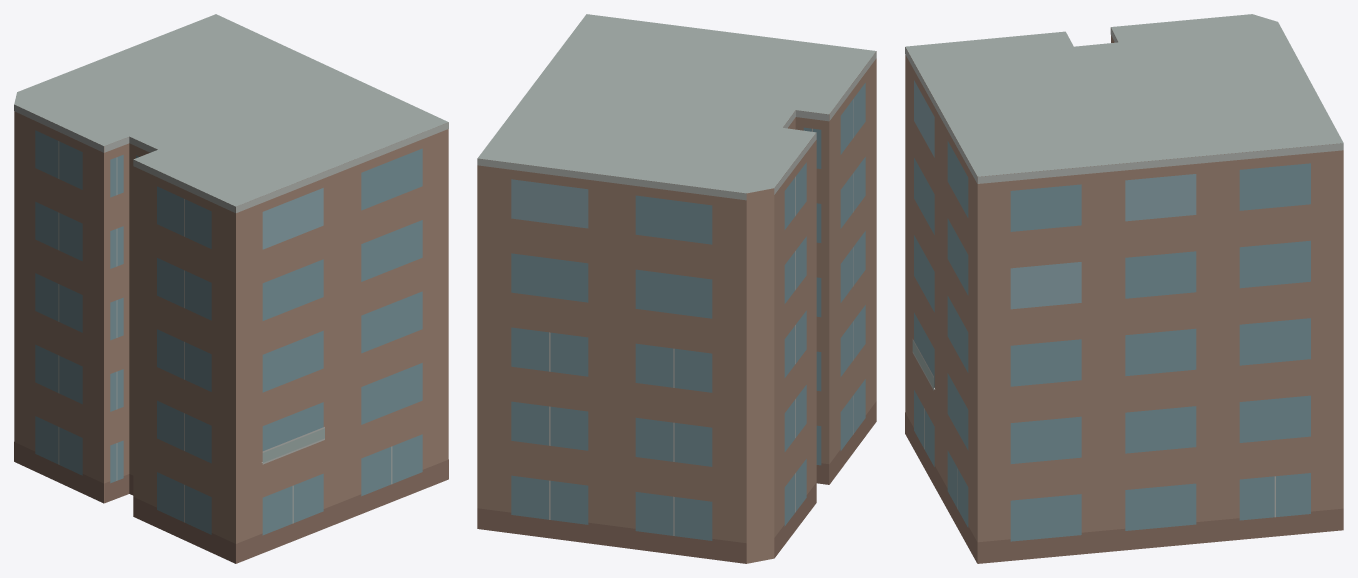
Rendered from survey-upis-32798811.glb.
3 views of the same model, side by side, from view 1: azimuth 30°, elevation 25°; view 2: azimuth 150°, elevation 25°; view 3: azimuth 270°, elevation 25° (orthographic). The views are drawn at different scales.
Visible parts, largest first — view 1: survey-upis-32798811.tmp; view 2: survey-upis-32798811.tmp; view 3: survey-upis-32798811.tmp.
Part boxes in pixels (x1,y1,x2,y2): survey-upis-32798811.tmp: (14, 14, 448, 563); survey-upis-32798811.tmp: (477, 14, 876, 563); survey-upis-32798811.tmp: (905, 14, 1343, 563).
Size of the model in its own units: 11.78 by 13.05 by 13.41.
